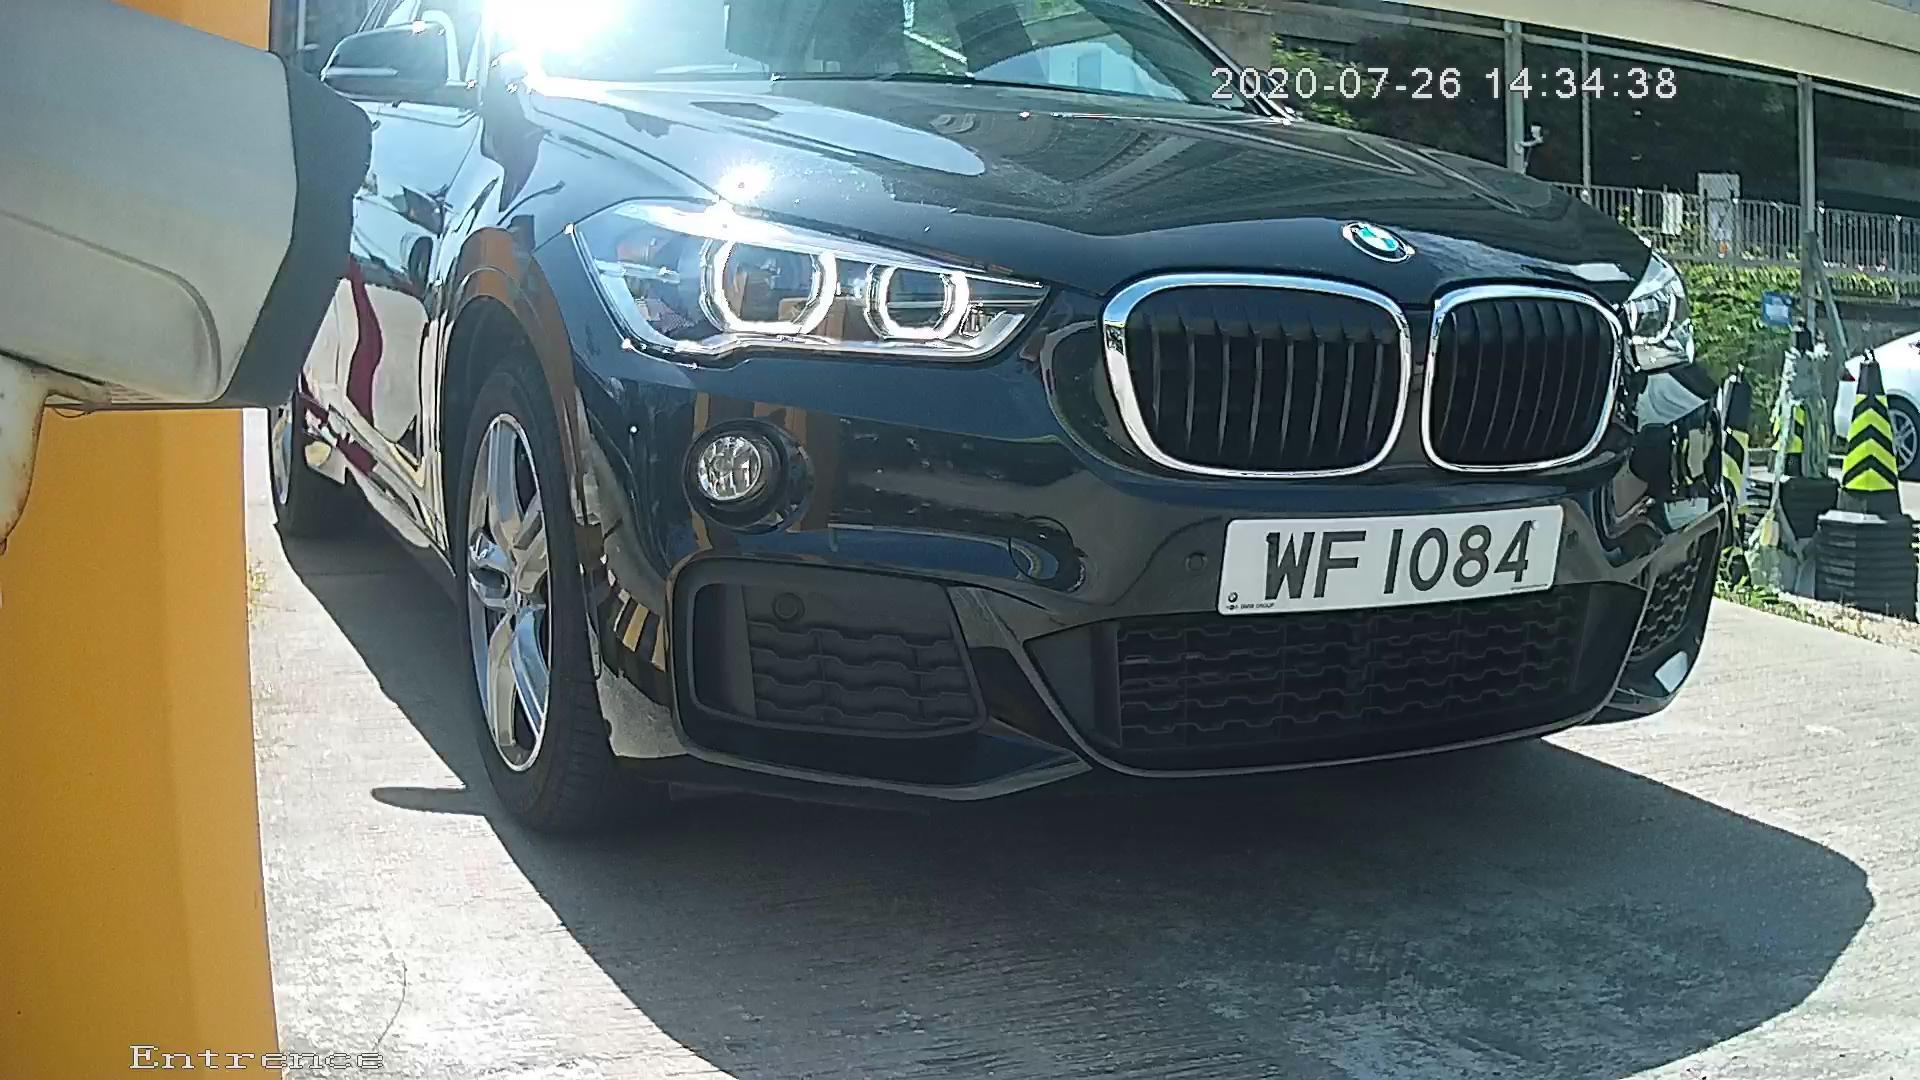privatecar: (223, 29, 1775, 949)
